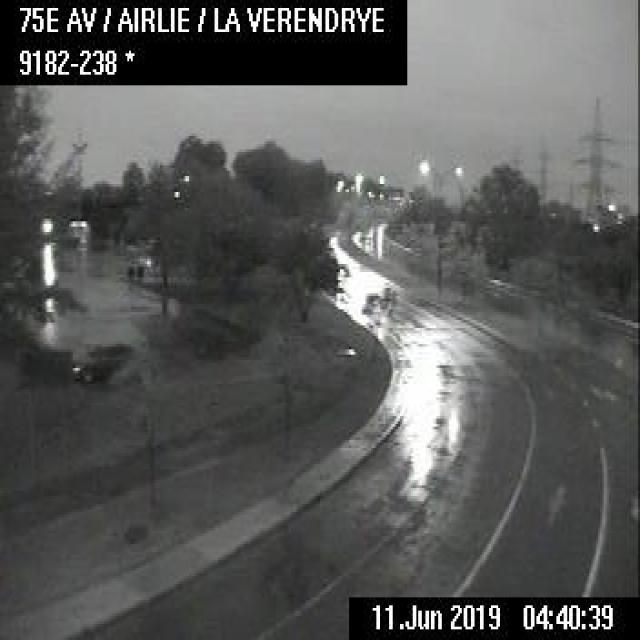vehicle: (71, 340, 131, 383)
